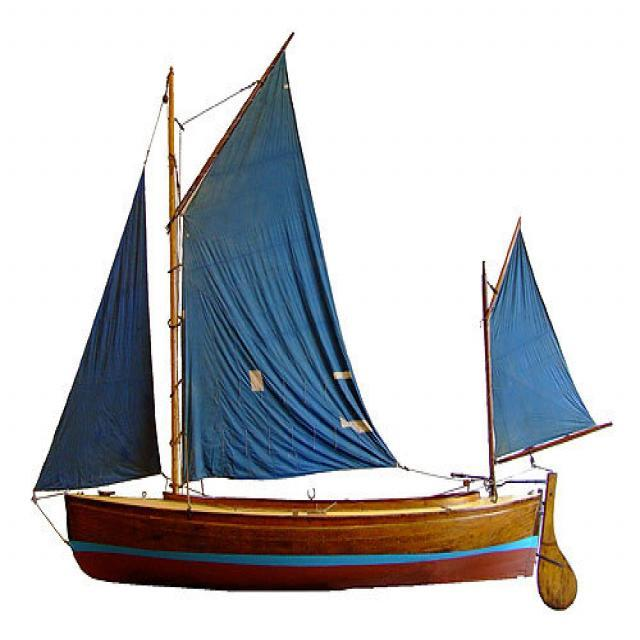Ship: (33, 41, 601, 599)
